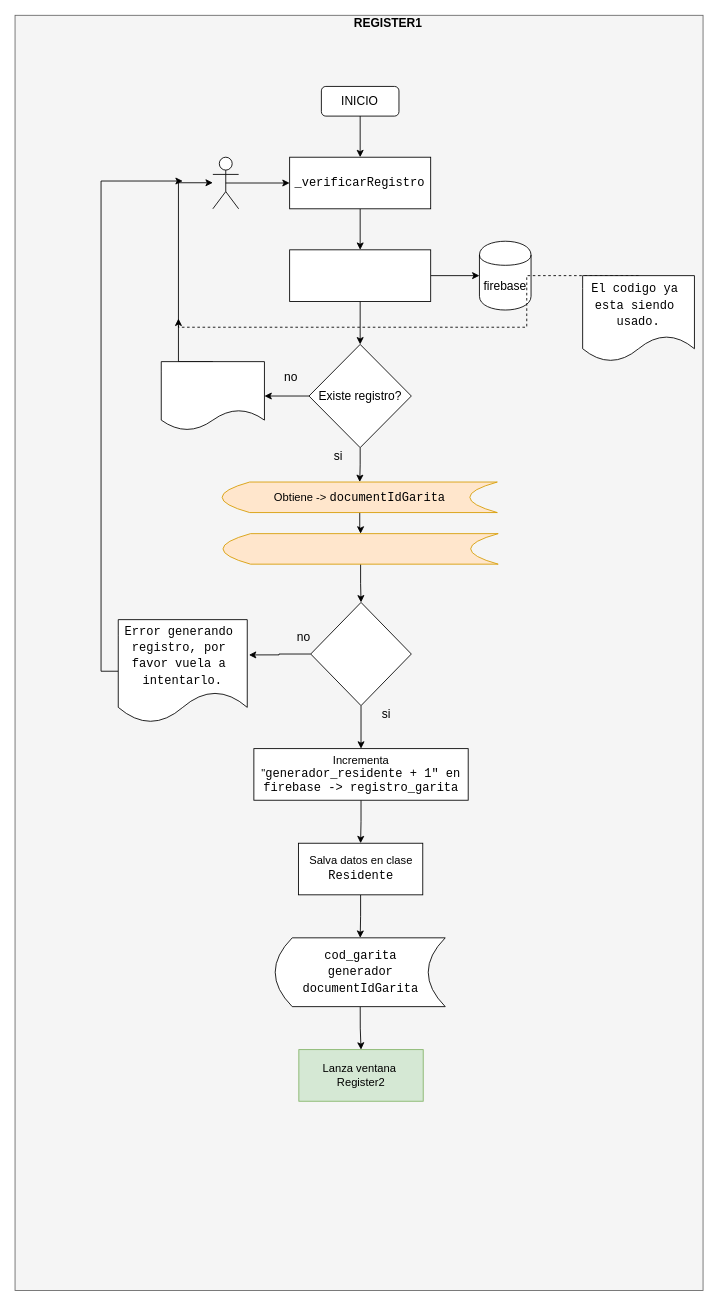
Some shapes in this 718 by 1305 pixel diagram are drawn without their labels. Here are the shapes that lost their labels. From the top down, the centre of each, then its label:
the point at 225,182: Actor
the point at 360,275: Verifica existencia en FireBase
the point at 212,395: El código no existe.'
the point at 360,548: Obtiene -> generador
the point at 360,654: generador es valido
